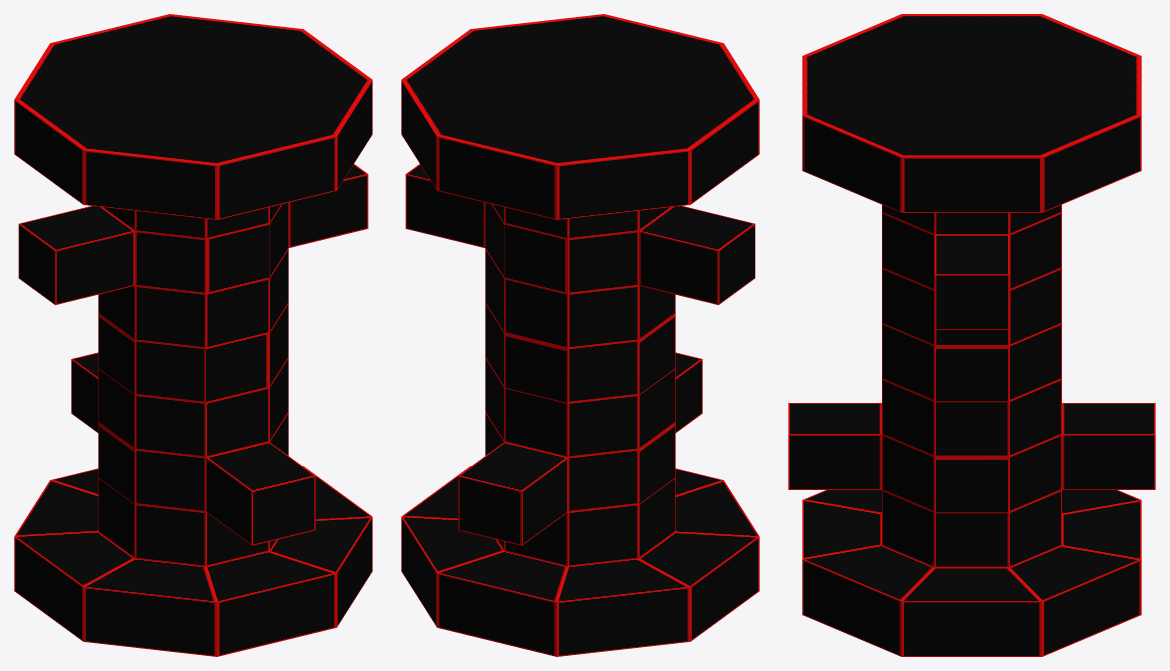
File: TurnstileTypeC.fbx
The picture shows the model from 3 angles, left to right: view 1: azimuth 30°, elevation 25°; view 2: azimuth 150°, elevation 25°; view 3: azimuth 270°, elevation 25°; orthographic projection.
Visible parts, largest first — view 1: pCylinder5; view 2: pCylinder5; view 3: pCylinder5.
Boxes of the visible parts, <box> form: pCylinder5: <box>14,14,372,656</box>; pCylinder5: <box>401,14,759,656</box>; pCylinder5: <box>788,14,1155,656</box>.
Size of the model in its own units: 6 by 9 by 6.
Materials: 1 (1 with a texture image).
